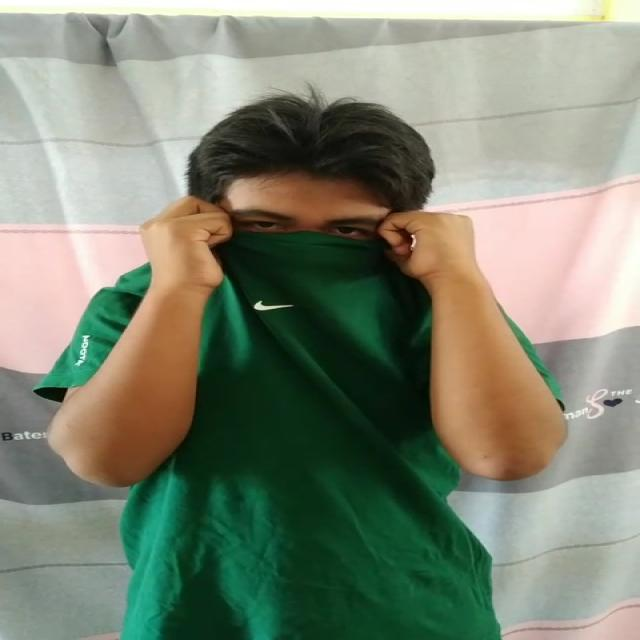8_ropa_rostro: (171, 218, 441, 319)
